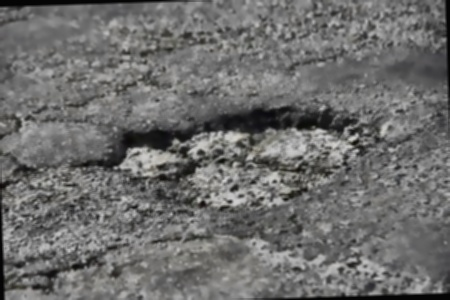pothole: (98, 100, 385, 218)
